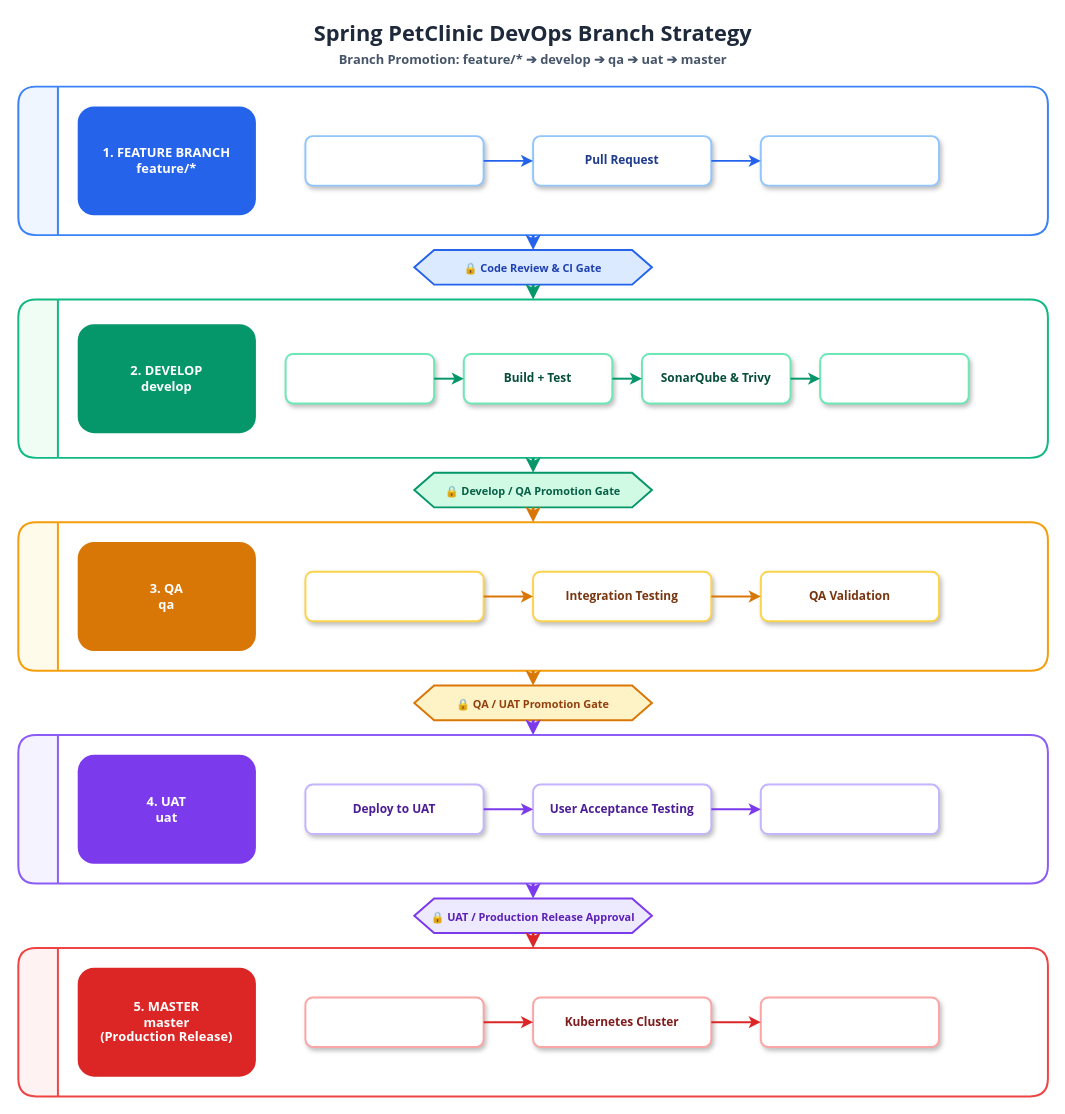
The diagram is 1065 pixels wide and 1114 high, and some of its shapes have lost their labels. The centre of each missing label's shape, as x and y in pixels:
"Business Validation" belongs at [850,810].
"CI Pipeline" belongs at [360,379].
"Code Review" belongs at [850,162].
"Deploy to QA" belongs at [395,597].
"Developer Changes" belongs at [395,162].
"Production Deployment" belongs at [395,1023].
"Prometheus + Grafana" belongs at [850,1023].
"Quality Gate" belongs at [895,379].
